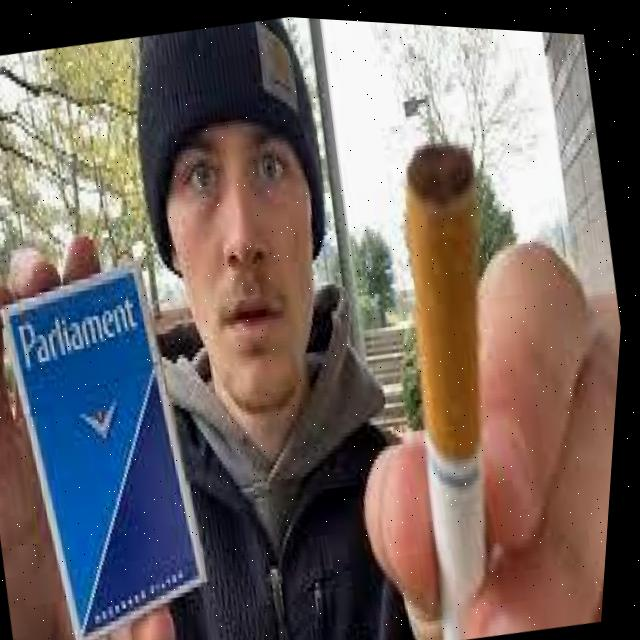cigarette: (404, 146, 489, 638)
